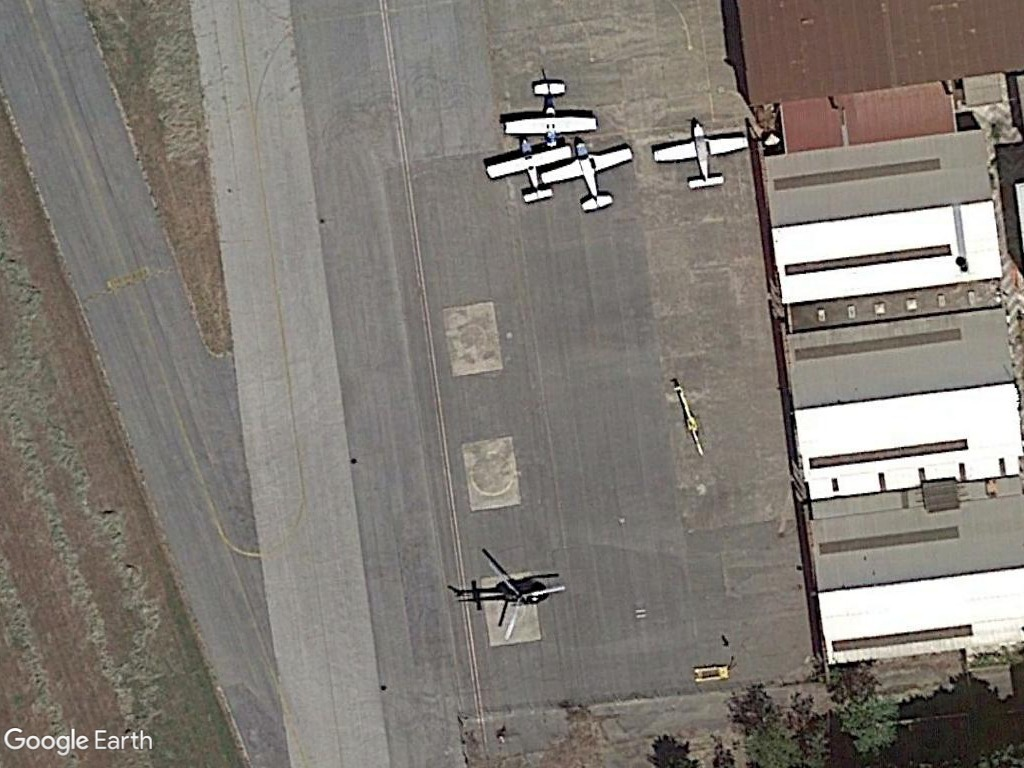helicopter: (453, 548, 569, 647)
trainer: (644, 117, 748, 195), (537, 131, 631, 214), (497, 76, 600, 148), (478, 136, 574, 207)
